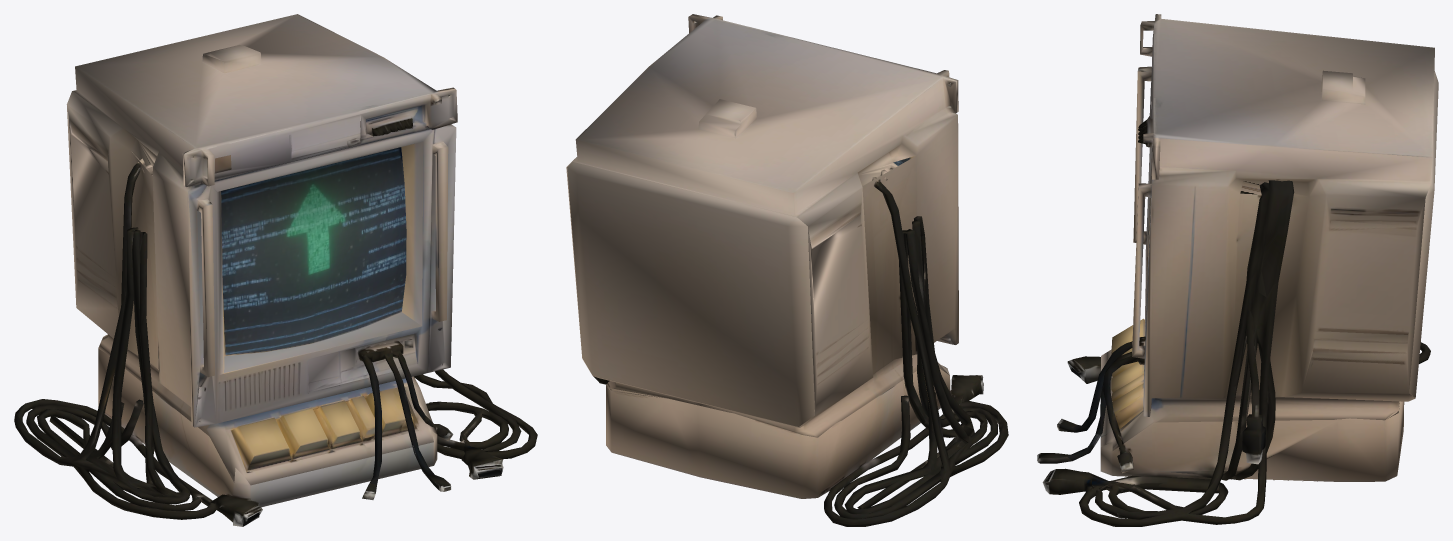
Rendered from xdata_terminal.glb.
3 renders of one model, left to right at view 1: azimuth 30°, elevation 25°; view 2: azimuth 150°, elevation 25°; view 3: azimuth 270°, elevation 25°, orthographic. The views are drawn at different scales.
Parts seen in each view (by area): view 1: material; view 2: material; view 3: material.
Boxes of the visible parts, x1,y1,x2,y2 form: material: (14,14,537,526); material: (566,14,1008,526); material: (1037,14,1438,526).
Bounding box in the file's own units: 3.81 × 3.24 × 3.33.
Materials: 1 (1 with a texture image).
